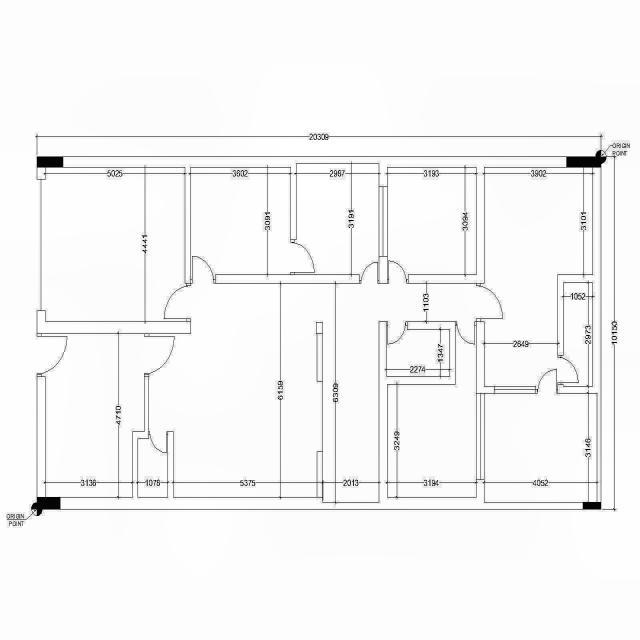Column: (566, 156, 602, 168), (36, 156, 64, 168), (37, 496, 60, 509), (582, 502, 602, 510)
Door: (36, 333, 68, 377), (144, 333, 174, 377), (163, 283, 191, 322), (476, 283, 503, 322), (290, 239, 315, 275), (190, 256, 216, 284), (558, 355, 580, 385), (536, 368, 558, 394), (388, 260, 408, 284), (456, 322, 476, 346), (387, 322, 408, 344), (359, 261, 379, 284), (148, 432, 168, 454)
Window: (378, 186, 388, 256), (476, 393, 484, 480), (494, 386, 536, 394)
